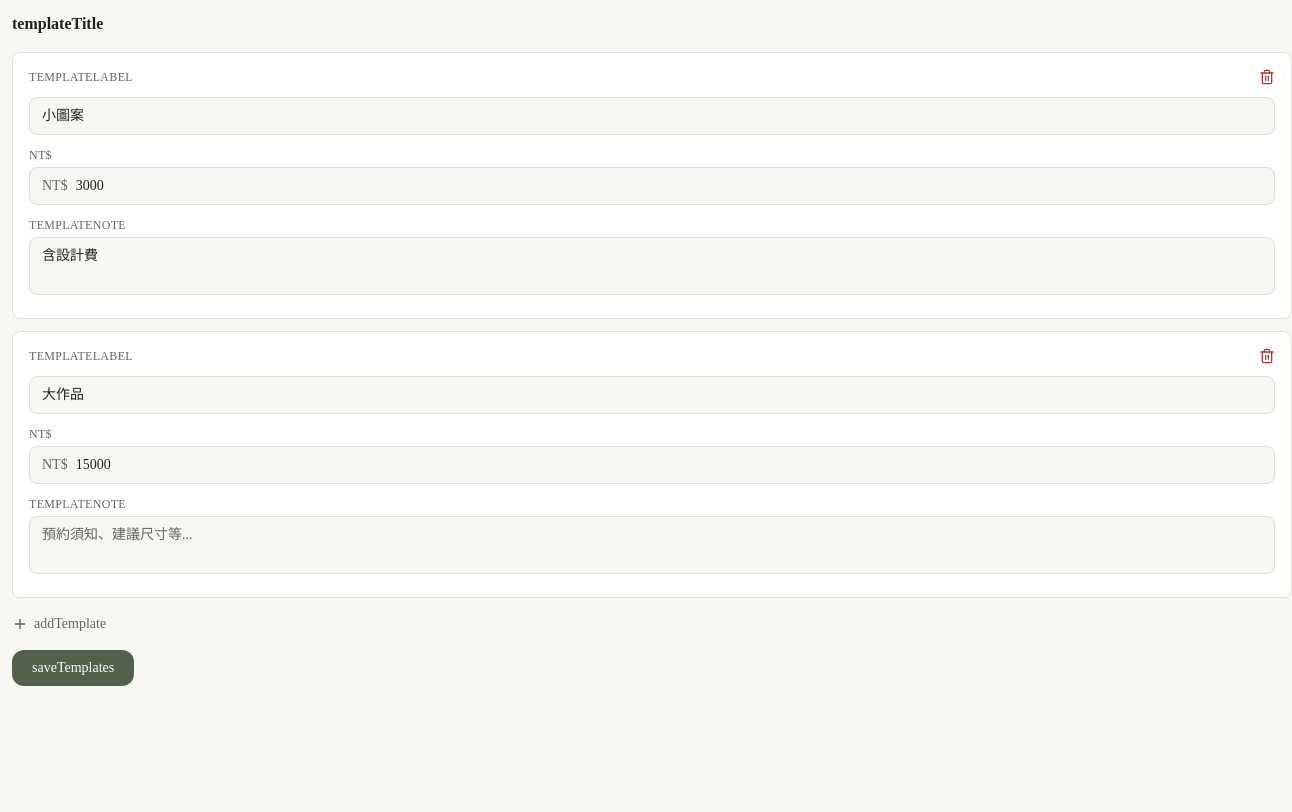
QuoteTemplateManager › shows success message (saved key) after successful save
The image size is (1292, 812).
Click the button "saveTemplates": (73, 668) [12, 650, 134, 686]
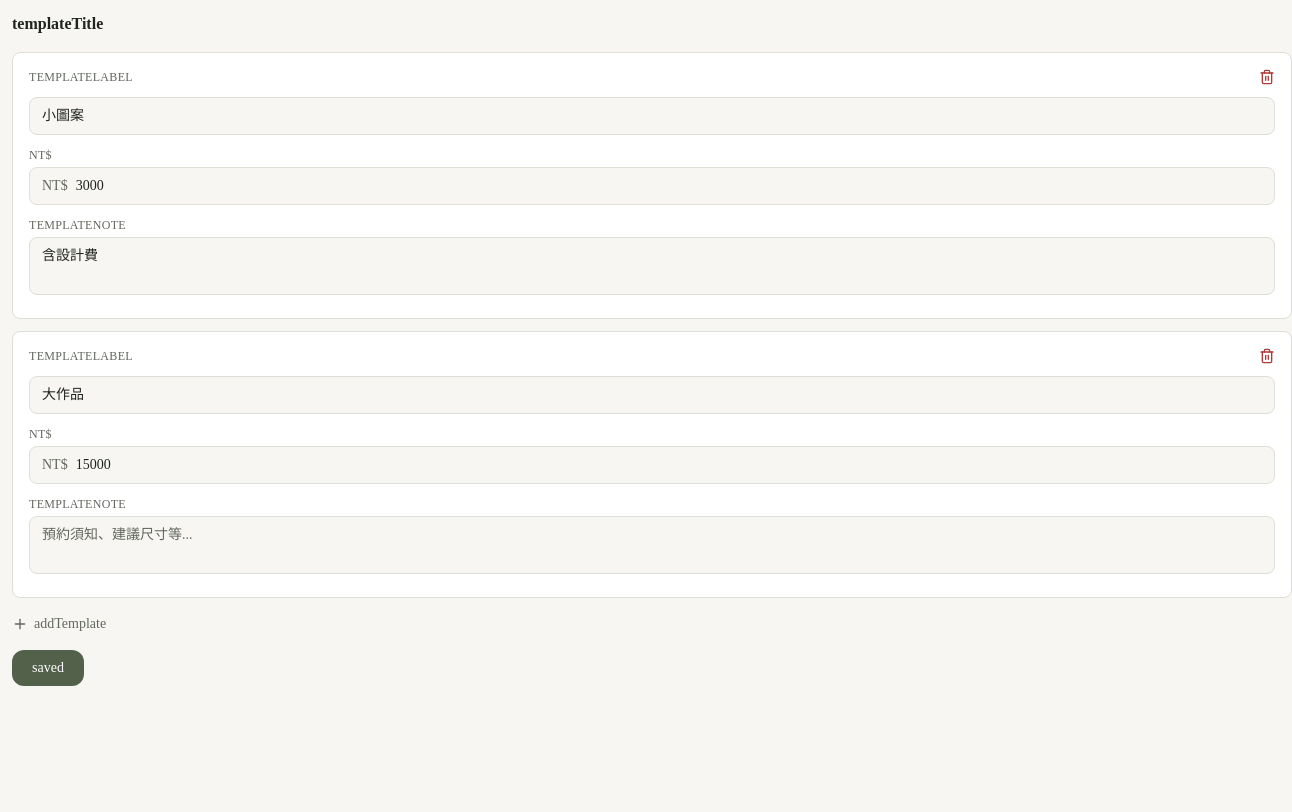
Expected: the button "saved" is shown, [12, 650, 84, 686]
